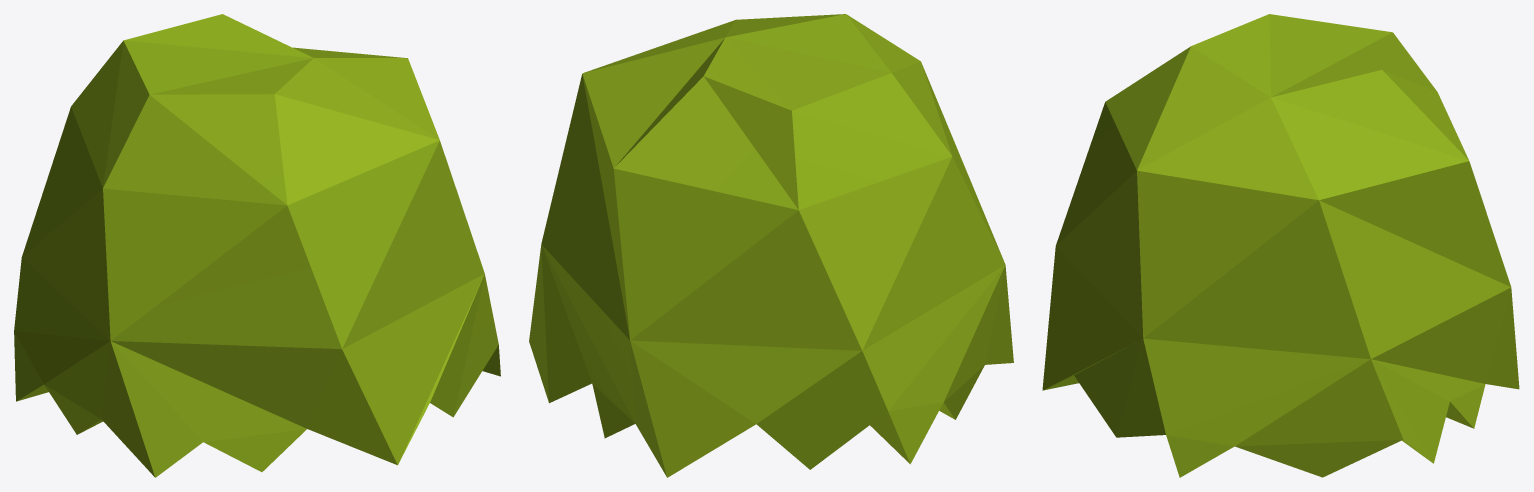
Rendered from Vegetation_Modular_Tree_Foliage_Clump_Draped_03.fbx.
3 views of the same model, side by side, from view 1: azimuth 30°, elevation 25°; view 2: azimuth 150°, elevation 25°; view 3: azimuth 270°, elevation 25° (orthographic).
Parts seen in each view (by area): view 1: Vegetation_Modular_Tree_Foliage_Clump_Draped_03; view 2: Vegetation_Modular_Tree_Foliage_Clump_Draped_03; view 3: Vegetation_Modular_Tree_Foliage_Clump_Draped_03.
Part boxes in pixels (bbox=[...]): Vegetation_Modular_Tree_Foliage_Clump_Draped_03: bbox=[14, 14, 500, 477]; Vegetation_Modular_Tree_Foliage_Clump_Draped_03: bbox=[529, 14, 1013, 477]; Vegetation_Modular_Tree_Foliage_Clump_Draped_03: bbox=[1042, 14, 1519, 477].
Size of the model in its own units: 144 by 123 by 157.
